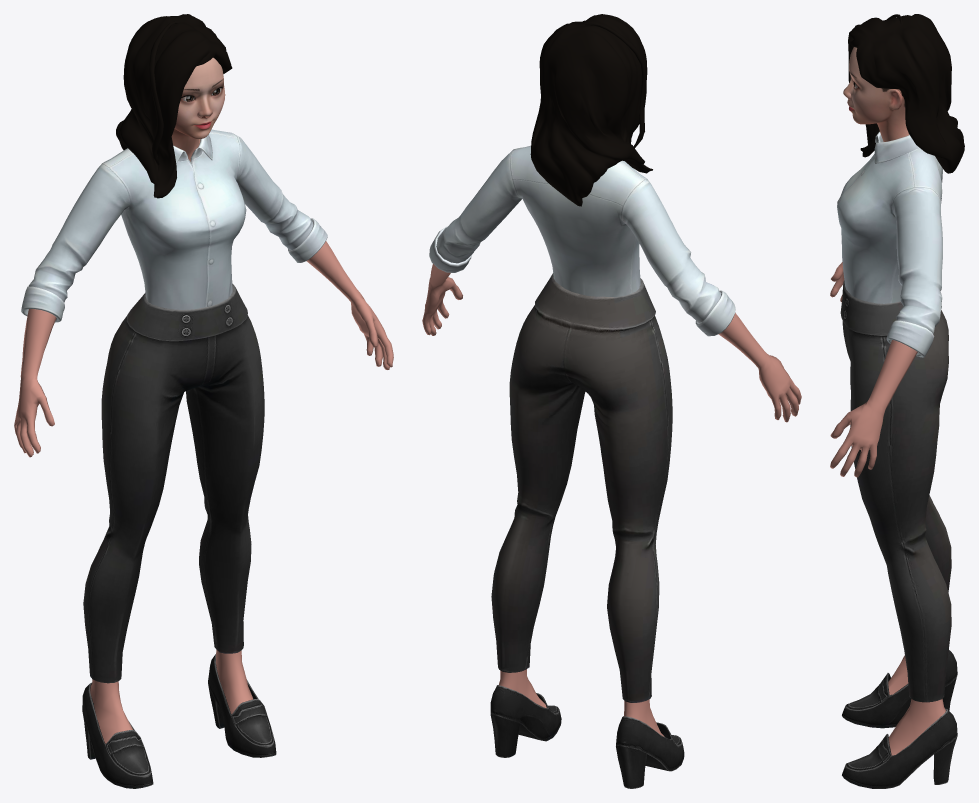
File: Female.fbx
The picture shows the model from 3 angles, left to right: view 1: azimuth 30°, elevation 25°; view 2: azimuth 150°, elevation 25°; view 3: azimuth 270°, elevation 25°; orthographic projection.
Visible parts, largest first — view 1: Wolf3D_Outfit_Bottom, Wolf3D_Outfit_Top, Wolf3D_Hair, Wolf3D_Body, Wolf3D_Outfit_Footwear, Wolf3D_Head; view 2: Wolf3D_Outfit_Bottom, Wolf3D_Outfit_Top, Wolf3D_Hair, Wolf3D_Outfit_Footwear, Wolf3D_Body; view 3: Wolf3D_Outfit_Bottom, Wolf3D_Outfit_Top, Wolf3D_Hair, Wolf3D_Outfit_Footwear, Wolf3D_Body, Wolf3D_Head.
Part boxes in pixels (x1,y1,x2,y2): Wolf3D_Outfit_Bottom: [83, 283, 264, 683]; Wolf3D_Outfit_Top: [21, 129, 327, 322]; Wolf3D_Hair: [116, 14, 232, 198]; Wolf3D_Body: [14, 241, 393, 743]; Wolf3D_Outfit_Footwear: [82, 654, 276, 788]; Wolf3D_Head: [171, 57, 225, 161]; Wolf3D_Outfit_Bottom: [491, 273, 672, 702]; Wolf3D_Outfit_Top: [429, 145, 735, 336]; Wolf3D_Hair: [530, 14, 652, 206]; Wolf3D_Outfit_Footwear: [490, 685, 684, 788]; Wolf3D_Body: [422, 264, 801, 736]; Wolf3D_Outfit_Bottom: [840, 280, 951, 702]; Wolf3D_Outfit_Top: [837, 131, 942, 357]; Wolf3D_Hair: [848, 14, 964, 173]; Wolf3D_Outfit_Footwear: [842, 650, 957, 788]; Wolf3D_Body: [830, 262, 945, 755]; Wolf3D_Head: [843, 47, 909, 141].
Size of the model in its own units: 92.79 by 177 by 29.59.
Materials: 8 (8 with a texture image).
